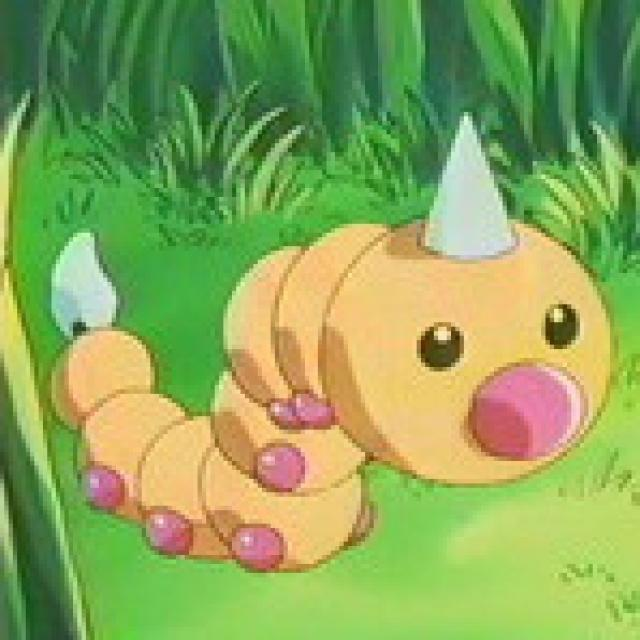Weedle: (49, 195, 621, 560)
